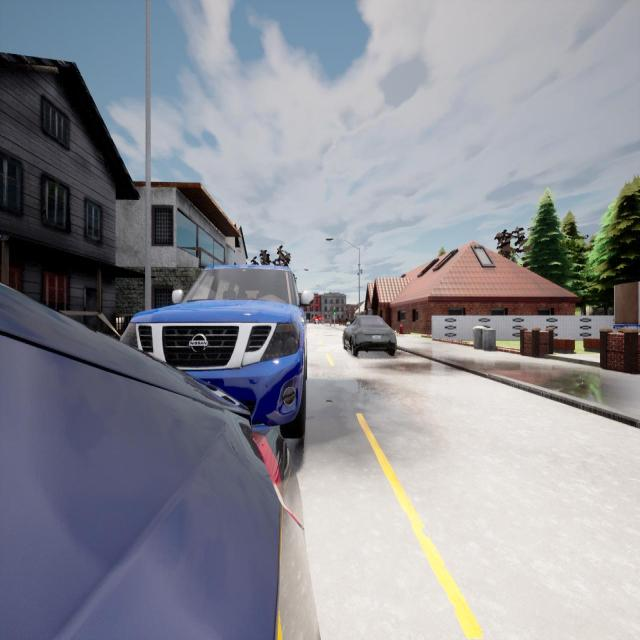Vehicle: (0, 285, 317, 638), (121, 266, 305, 439), (343, 315, 397, 356), (312, 316, 324, 323), (314, 320, 318, 324)
traffic_light: (334, 309, 336, 314)
